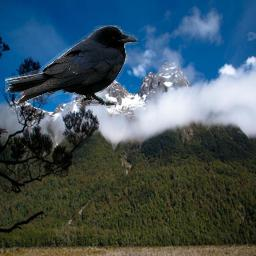Crow: (5, 25, 138, 106)
